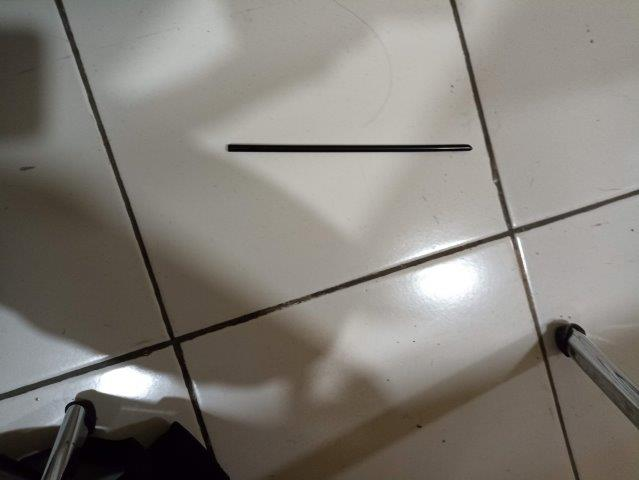sedotan: (228, 144, 473, 153)
